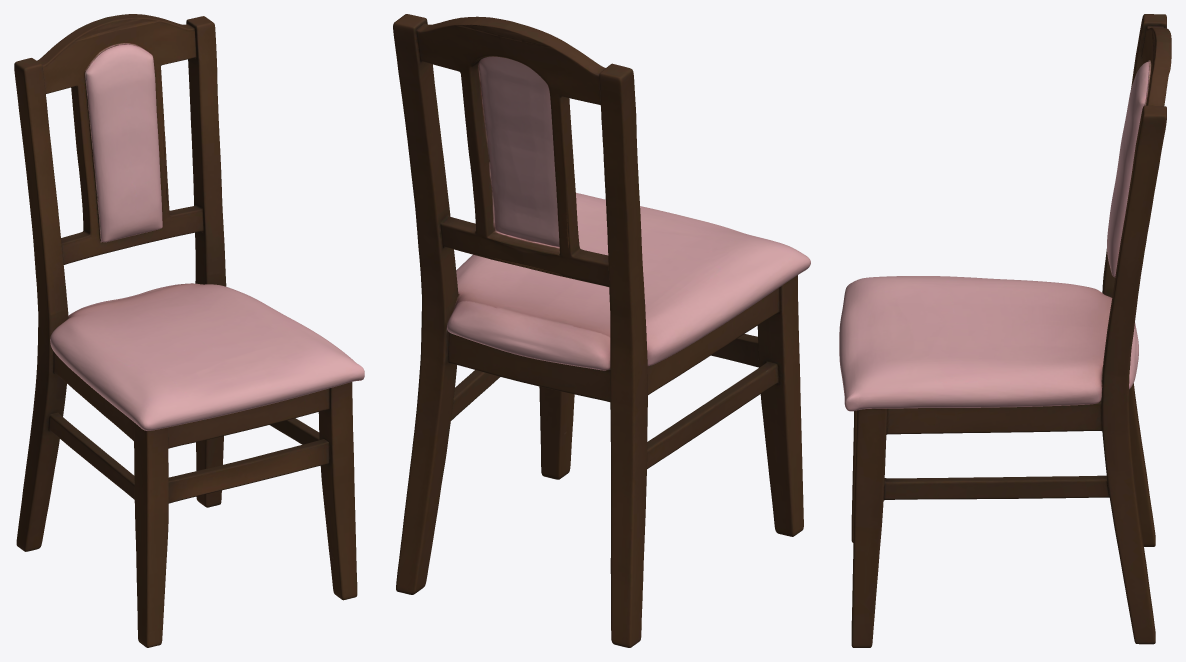
The model's file is Lobo2.glb.
The picture shows the model from 3 angles, left to right: view 1: azimuth 30°, elevation 25°; view 2: azimuth 150°, elevation 25°; view 3: azimuth 270°, elevation 25°; orthographic projection. The views are drawn at different scales.
Visible parts, largest first — view 1: tripo_node_87145b58-d8ec-4401-b29f-11f2722a91bb; view 2: tripo_node_87145b58-d8ec-4401-b29f-11f2722a91bb; view 3: tripo_node_87145b58-d8ec-4401-b29f-11f2722a91bb.
Part boxes in pixels (x1,y1,x2,y2): tripo_node_87145b58-d8ec-4401-b29f-11f2722a91bb: (14,14,364,647); tripo_node_87145b58-d8ec-4401-b29f-11f2722a91bb: (393,14,810,647); tripo_node_87145b58-d8ec-4401-b29f-11f2722a91bb: (839,14,1171,647).
Bounding box in the file's own units: 0.4532 × 0.9791 × 0.5358.
Materials: 1 (1 with a texture image).
